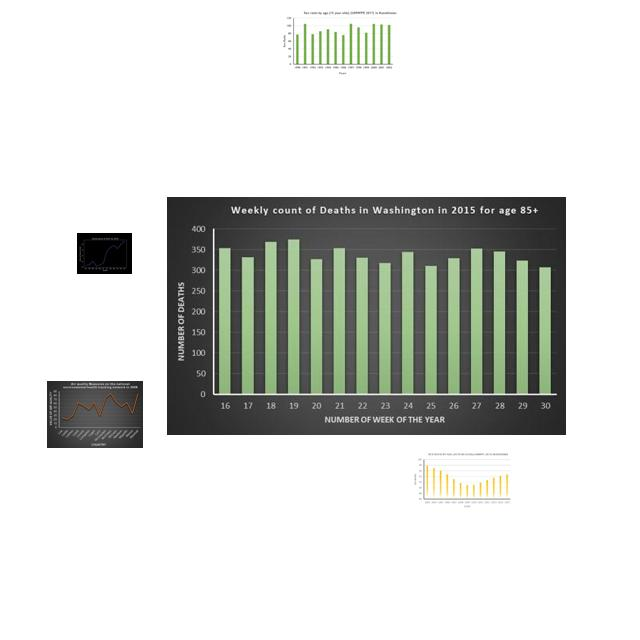Graph: (167, 197, 566, 435), (281, 9, 398, 77), (47, 381, 143, 448), (411, 451, 512, 509), (77, 233, 132, 274)
